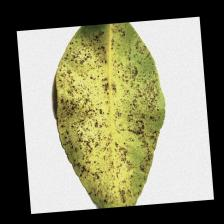canker: (65, 70, 148, 167)
